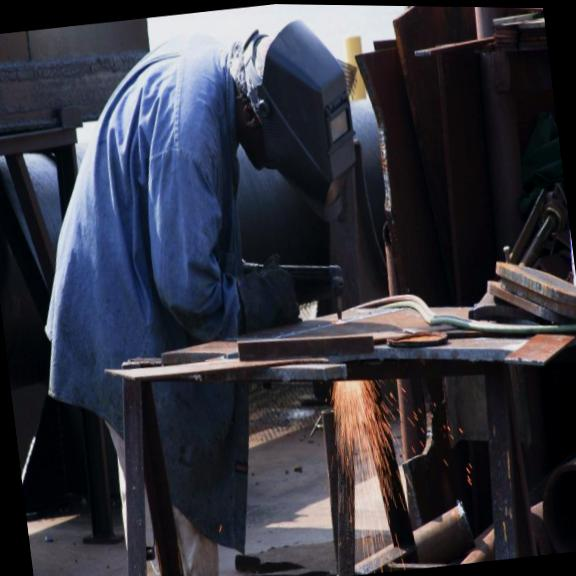no_safety_vest: (64, 27, 274, 346)
